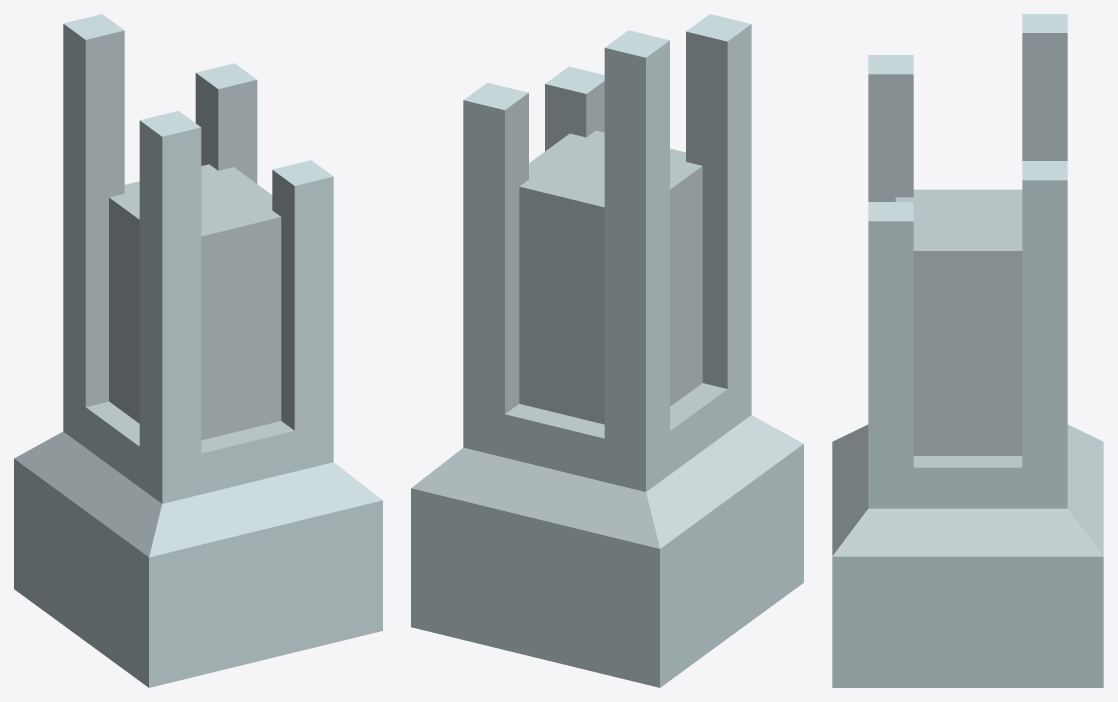
The model's file is statue_columnDamaged.glb.
3 views of the same model, side by side, from view 1: azimuth 30°, elevation 25°; view 2: azimuth 150°, elevation 25°; view 3: azimuth 270°, elevation 25° (orthographic). The views are drawn at different scales.
Visible parts, largest first — view 1: statue_columnDamaged; view 2: statue_columnDamaged; view 3: statue_columnDamaged.
Part boxes in pixels (x1=…): statue_columnDamaged: x1=14, y1=14, x2=382, y2=687; statue_columnDamaged: x1=411, y1=14, x2=803, y2=687; statue_columnDamaged: x1=832, y1=14, x2=1103, y2=687.
Size of the model in its own units: 0.3 by 0.7 by 0.3.
